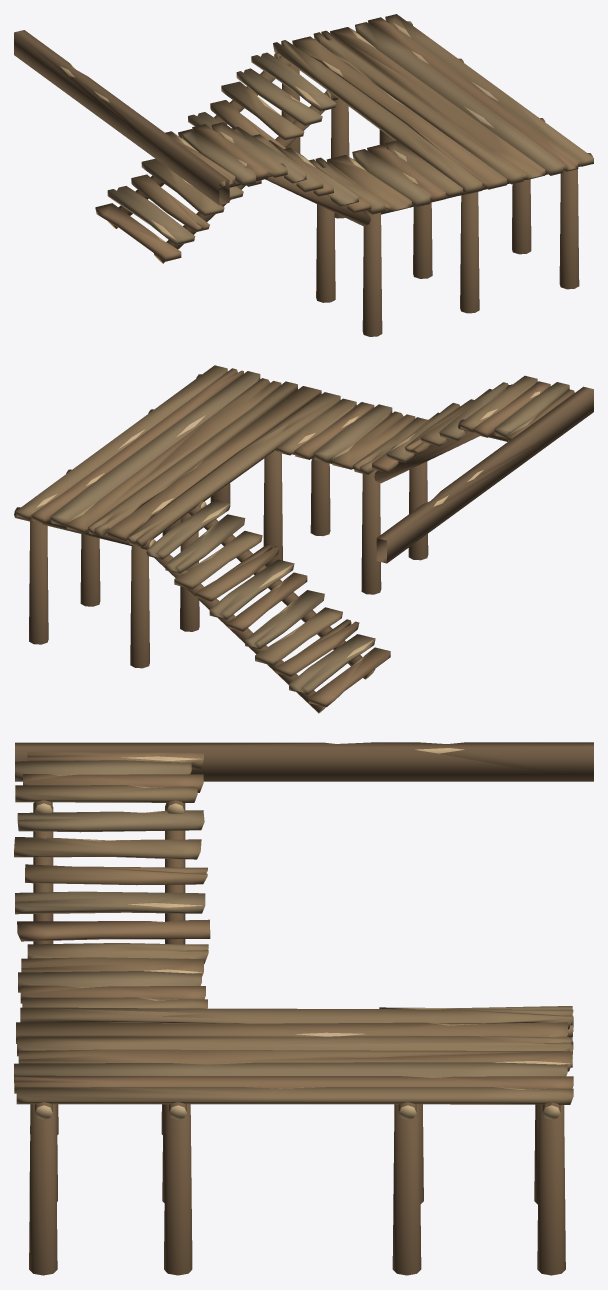
The model's file is rpgpp_ag_stairs_interior_01e_3m.fbx.
3 views of the same model, one above another, from view 1: azimuth 30°, elevation 25°; view 2: azimuth 150°, elevation 25°; view 3: azimuth 270°, elevation 25° (orthographic). The views are drawn at different scales.
Visible parts, largest first — view 1: rpgpp_ag_stairs_interior_01e_3m; view 2: rpgpp_ag_stairs_interior_01e_3m; view 3: rpgpp_ag_stairs_interior_01e_3m.
Boxes of the visible parts, x1,y1,x2,y2 form: rpgpp_ag_stairs_interior_01e_3m: (14, 14, 593, 336); rpgpp_ag_stairs_interior_01e_3m: (14, 365, 593, 713); rpgpp_ag_stairs_interior_01e_3m: (14, 742, 593, 1275).
Size of the model in its own units: 6.22 by 3.18 by 5.8.
